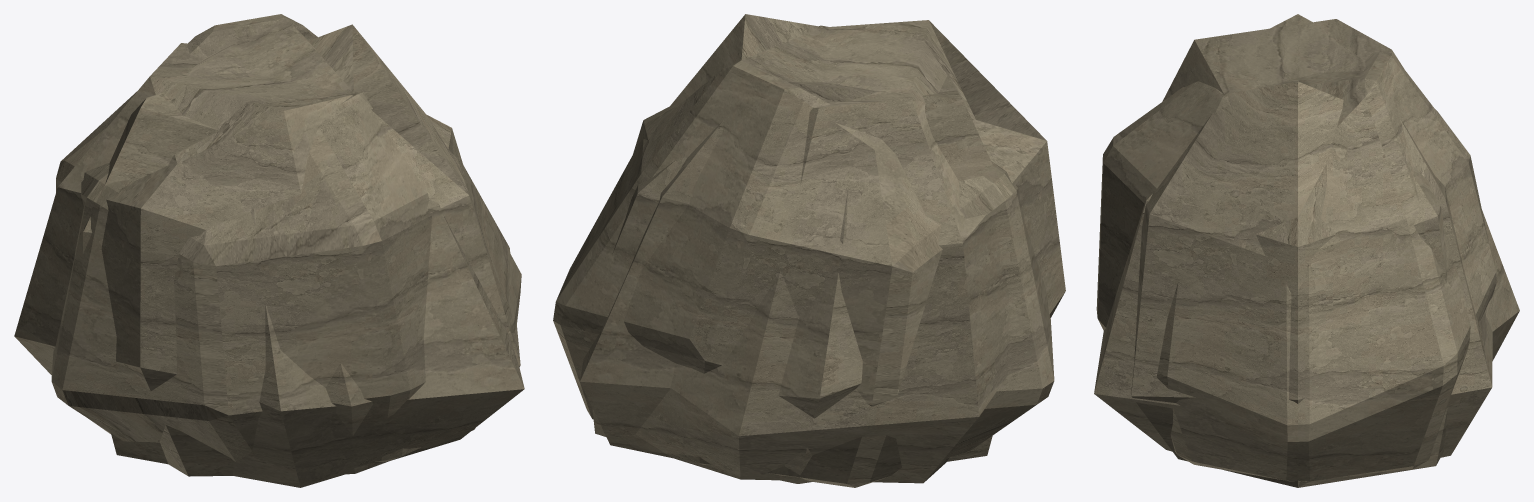
File: env_rock_boulder_d_v001.glb
3 views of the same model, side by side, from view 1: azimuth 30°, elevation 25°; view 2: azimuth 150°, elevation 25°; view 3: azimuth 270°, elevation 25° (orthographic). The views are drawn at different scales.
Parts seen in each view (by area): view 1: env_rock_boulder_d_LOD0_mesh, env_rock_boulder_d_LOD1_mesh, env_rock_boulder_d_LOD2_mesh; view 2: env_rock_boulder_d_LOD0_mesh, env_rock_boulder_d_LOD1_mesh, env_rock_boulder_d_LOD2_mesh; view 3: env_rock_boulder_d_LOD0_mesh, env_rock_boulder_d_LOD1_mesh, env_rock_boulder_d_LOD2_mesh.
Part boxes in pixels (box(x1,y1,x2,y2)): env_rock_boulder_d_LOD0_mesh: box(51, 14, 521, 461); env_rock_boulder_d_LOD1_mesh: box(14, 24, 520, 476); env_rock_boulder_d_LOD2_mesh: box(83, 38, 524, 487); env_rock_boulder_d_LOD0_mesh: box(553, 25, 1054, 487); env_rock_boulder_d_LOD1_mesh: box(592, 14, 1065, 483); env_rock_boulder_d_LOD2_mesh: box(580, 75, 1021, 483); env_rock_boulder_d_LOD0_mesh: box(1096, 52, 1496, 481); env_rock_boulder_d_LOD1_mesh: box(1131, 19, 1519, 487); env_rock_boulder_d_LOD2_mesh: box(1094, 14, 1492, 487).
Bounding box in the file's own units: 2 × 1.55 × 1.7.
3 materials, 3 textured.
